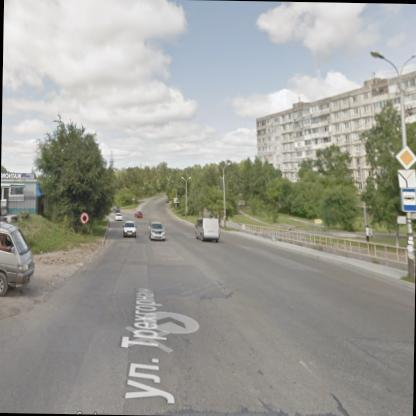road_sign: (396, 146, 416, 169), (401, 188, 416, 213), (398, 169, 416, 188)
